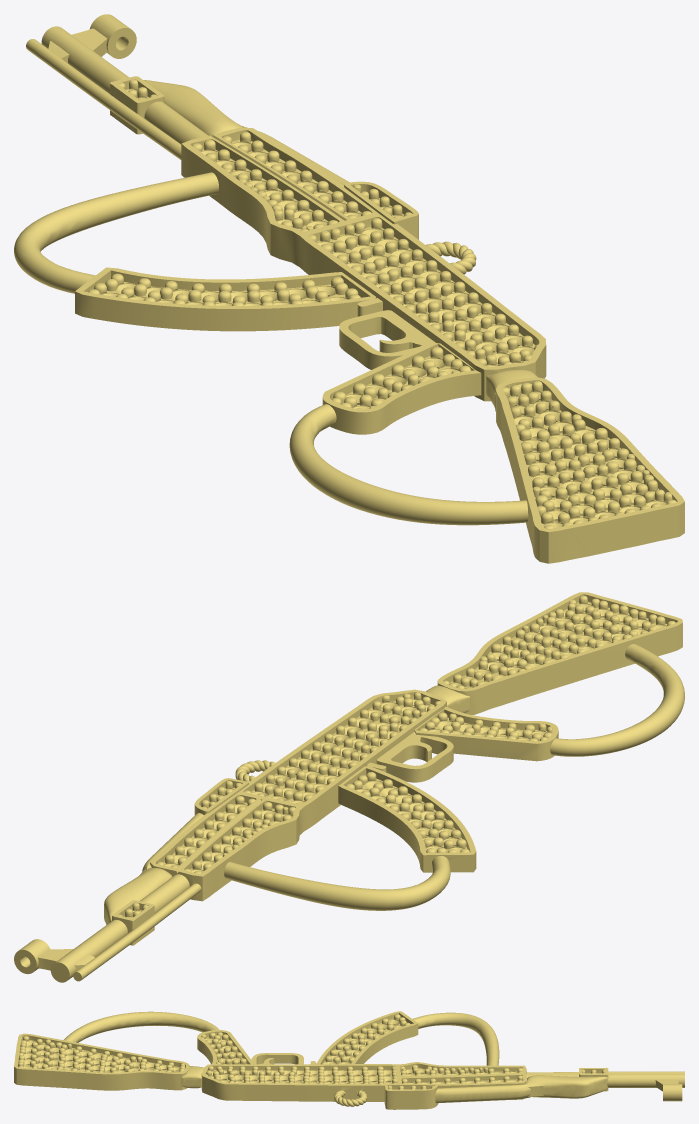
The model's file is kolye33-1_ak47.glb.
3 views of the same model, one above another, from view 1: azimuth 30°, elevation 25°; view 2: azimuth 150°, elevation 25°; view 3: azimuth 270°, elevation 25° (orthographic). The views are drawn at different scales.
Visible parts, largest first — view 1: Renderer Node; view 2: Renderer Node; view 3: Renderer Node.
Boxes of the visible parts, x1,y1,x2,y2 form: Renderer Node: (14, 14, 684, 563); Renderer Node: (14, 592, 684, 982); Renderer Node: (14, 1011, 684, 1109).
Bounding box in the file's own units: 22.09 × 2.24 × 70.49.
